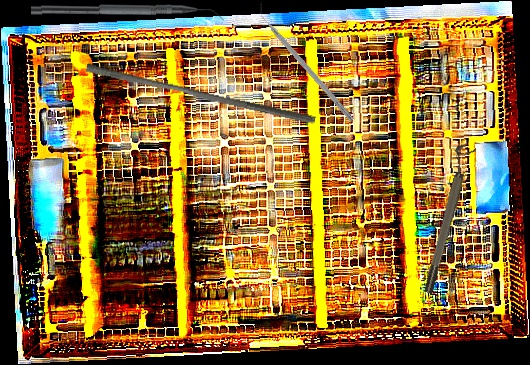Chopper: (252, 0, 361, 123), (30, 2, 225, 28)
Fixation Ring: (415, 143, 477, 295)
Pusher: (84, 62, 318, 125)
